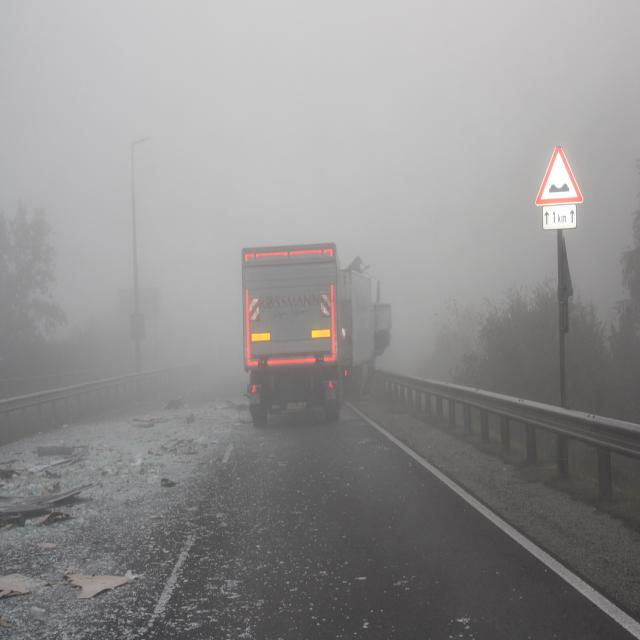bus: (242, 241, 352, 427)
